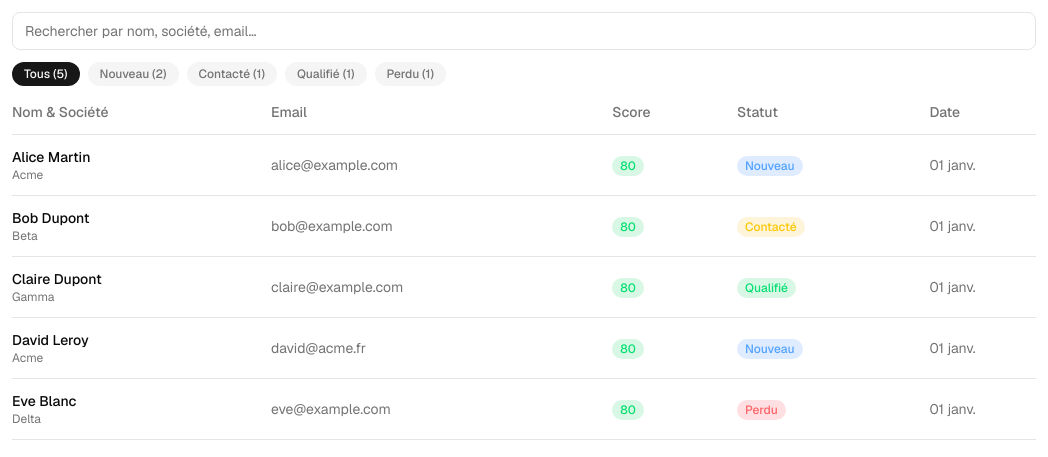
LeadsList — interaction recherche + filtres statut › filtre par recherche sur l'email
The image size is (1048, 457).
Type "acme.fr" into the field with placeholder "Rechercher par nom, société, email…" at (524, 31), box [12, 12, 1036, 50]
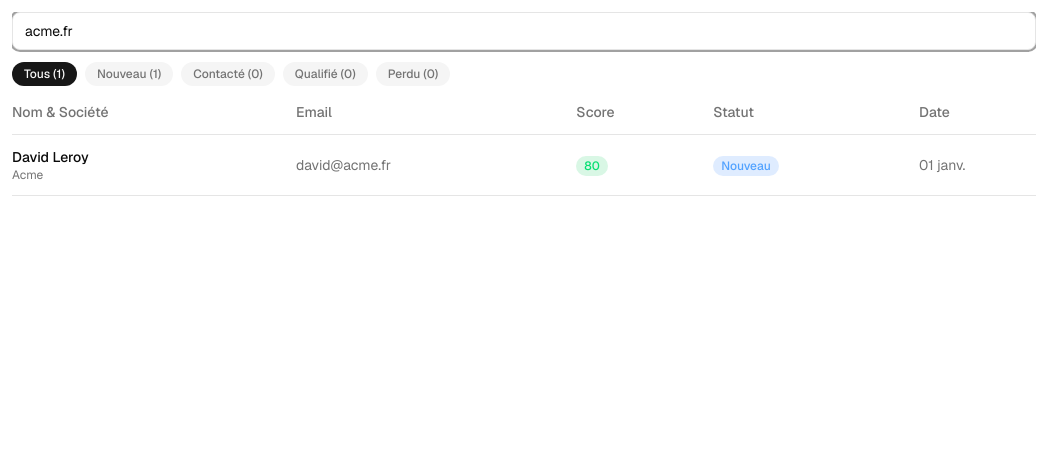
Check: the number of rows is 2, box [12, 102, 1036, 134]; [12, 134, 1036, 196]
